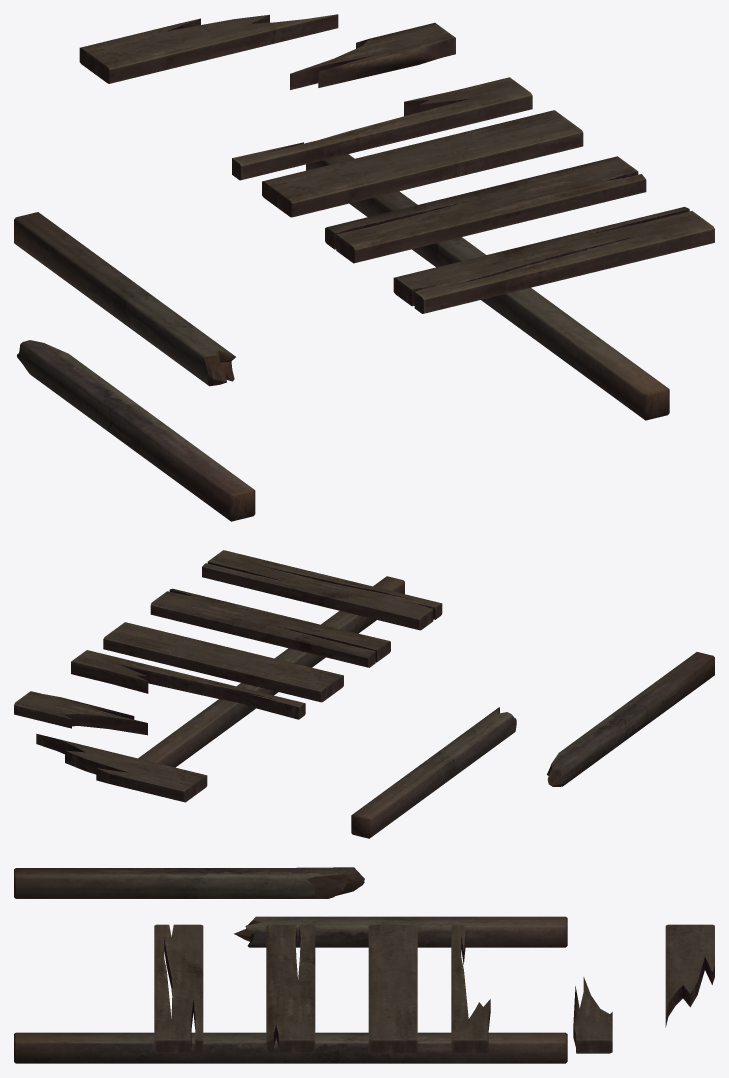
The model's file is Wooden_stuff.fbx.
3 views of the same model, one above another, from view 1: azimuth 30°, elevation 25°; view 2: azimuth 150°, elevation 25°; view 3: azimuth 270°, elevation 25° (orthographic). The views are drawn at different scales.
Parts seen in each view (by area): view 1: Wooden_plank02, Wooden_plank03, Wooden_plank01, Broken_Beam02, Wooden_Beam01, Broken_Beam01, Broken_plank03, Broken_plank02, Broken_plank01; view 2: Wooden_plank02, Wooden_plank03, Wooden_plank01, Broken_Beam02, Broken_Beam01, Broken_plank03, Wooden_Beam01, Broken_plank02, Broken_plank01; view 3: Wooden_Beam01, Broken_Beam02, Broken_Beam01, Wooden_plank02, Wooden_plank01, Wooden_plank03, Broken_plank02, Broken_plank03, Broken_plank01.
Boxes of the visible parts, <box> form: Wooden_plank02: <box>262,110,583,217</box>; Wooden_plank03: <box>393,207,714,313</box>; Wooden_plank01: <box>325,156,646,263</box>; Broken_Beam02: <box>17,340,255,521</box>; Wooden_Beam01: <box>306,154,669,420</box>; Broken_Beam01: <box>14,212,235,386</box>; Broken_plank03: <box>232,77,532,180</box>; Broken_plank02: <box>79,14,338,83</box>; Broken_plank01: <box>290,22,455,89</box>; Wooden_plank02: <box>103,622,343,702</box>; Wooden_plank03: <box>202,550,442,630</box>; Wooden_plank01: <box>150,588,390,667</box>; Broken_Beam02: <box>547,652,714,786</box>; Broken_Beam01: <box>351,707,516,838</box>; Broken_plank03: <box>71,650,305,719</box>; Wooden_Beam01: <box>138,576,404,767</box>; Broken_plank02: <box>36,733,207,802</box>; Broken_plank01: <box>14,691,147,735</box>; Wooden_Beam01: <box>14,1032,567,1063</box>; Broken_Beam02: <box>14,867,364,898</box>; Broken_Beam01: <box>234,916,567,947</box>; Wooden_plank02: <box>368,924,417,1053</box>; Wooden_plank01: <box>266,924,315,1053</box>; Wooden_plank03: <box>154,924,203,1053</box>; Broken_plank02: <box>665,924,714,1027</box>; Broken_plank03: <box>451,924,490,1053</box>; Broken_plank01: <box>573,977,612,1053</box>.
Size of the model in its own units: 2191 by 341 by 2849.
